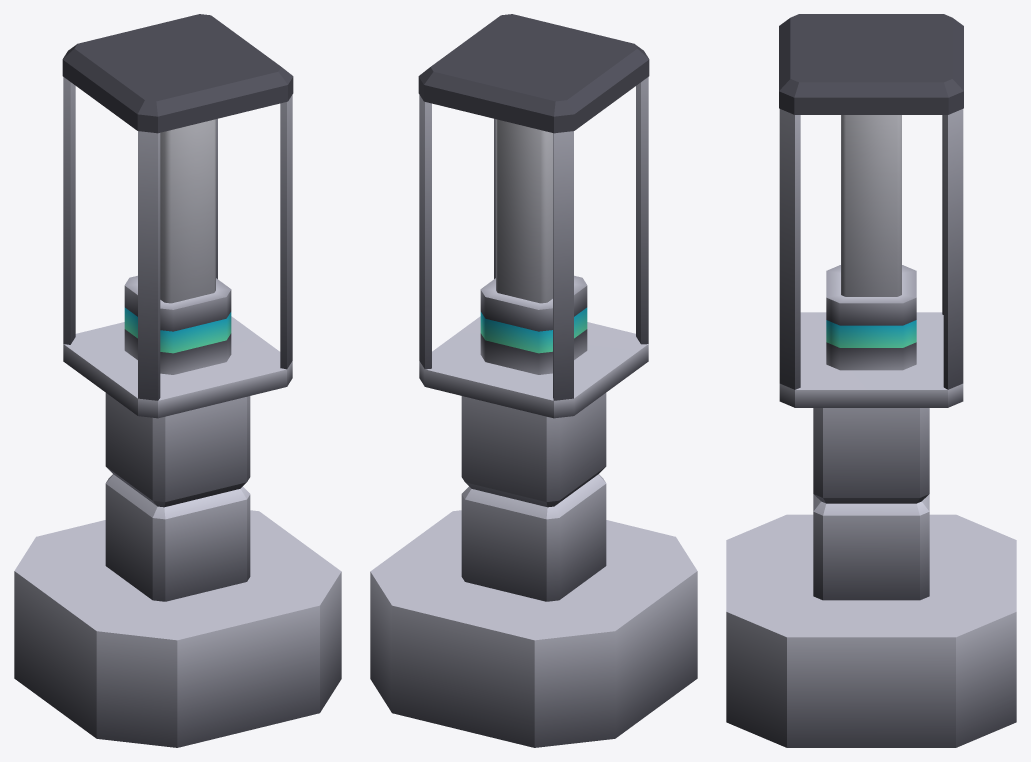
The model's file is PUMP.fbx.
3 renders of one model, left to right at view 1: azimuth 30°, elevation 25°; view 2: azimuth 150°, elevation 25°; view 3: azimuth 270°, elevation 25°, orthographic. The views are drawn at different scales.
Visible parts, largest first — view 1: Pump, Pump_01; view 2: Pump, Pump_01; view 3: Pump, Pump_01.
Part boxes in pixels (x1,y1,x2,y2): Pump: (14,14,341,747); Pump_01: (124,275,231,374); Pump: (370,14,697,747); Pump_01: (480,275,587,374); Pump: (726,14,1016,747); Pump_01: (826,265,916,370).
Size of the model in its own units: 23.62 by 57.25 by 23.62.
1 material, 1 textured.
